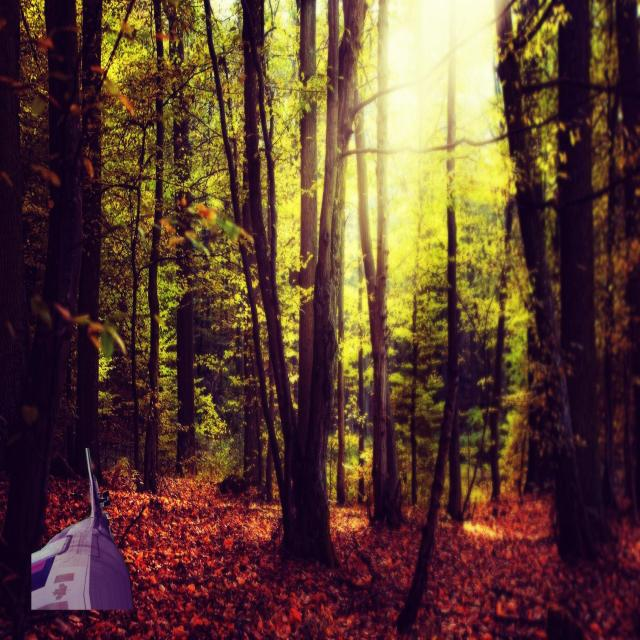airplane: (30, 446, 134, 612)
